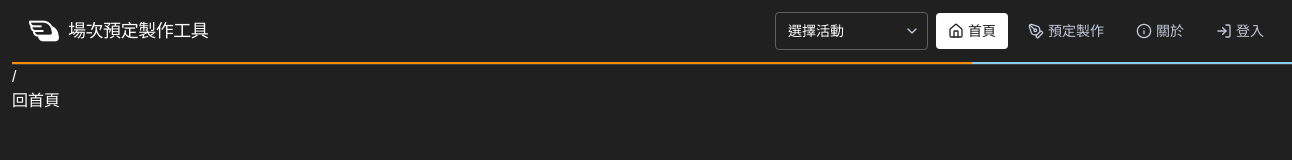
NavBar 活動下拉選單 › 離開活動頁後選單回到預設，可再次選擇同一個活動
Select "開拓動漫祭 FF44" in the dropdown at (852, 31), box [775,12,928,50]
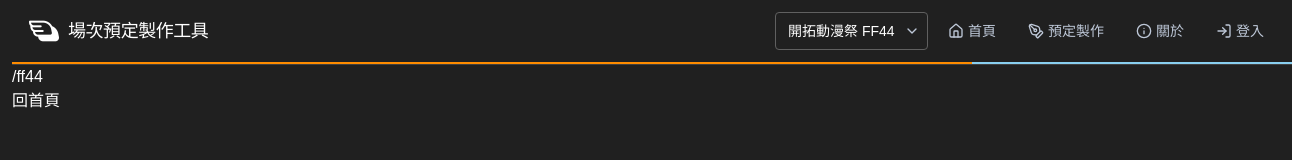
Check: the text with test id "location" reads "/ff44", box [12,68,43,85]
Click the link "回首頁".
click(36, 100)  # box [12,92,60,109]
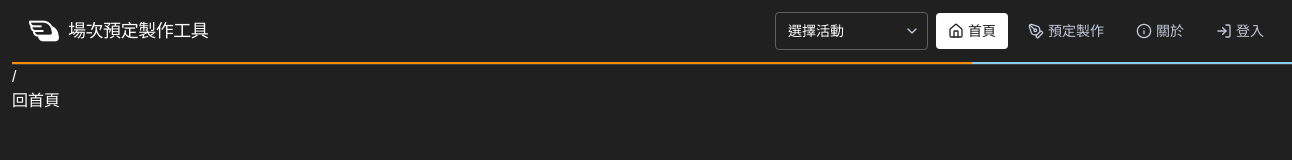
Check: the text with test id "location" reads "/", box [12,68,16,85]
Select "開拓動漫祭 FF44" in the dropdown at (852, 31), box [775,12,928,50]
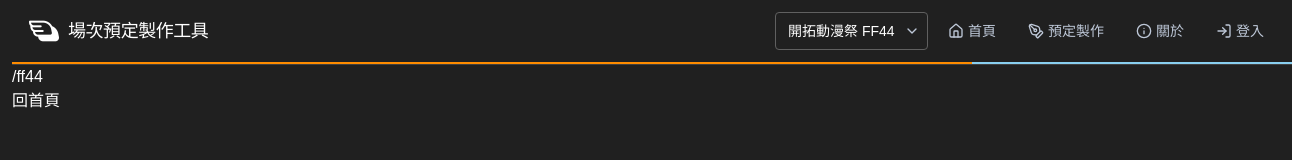
Check: the text with test id "location" reads "/ff44", box [12,68,43,85]
